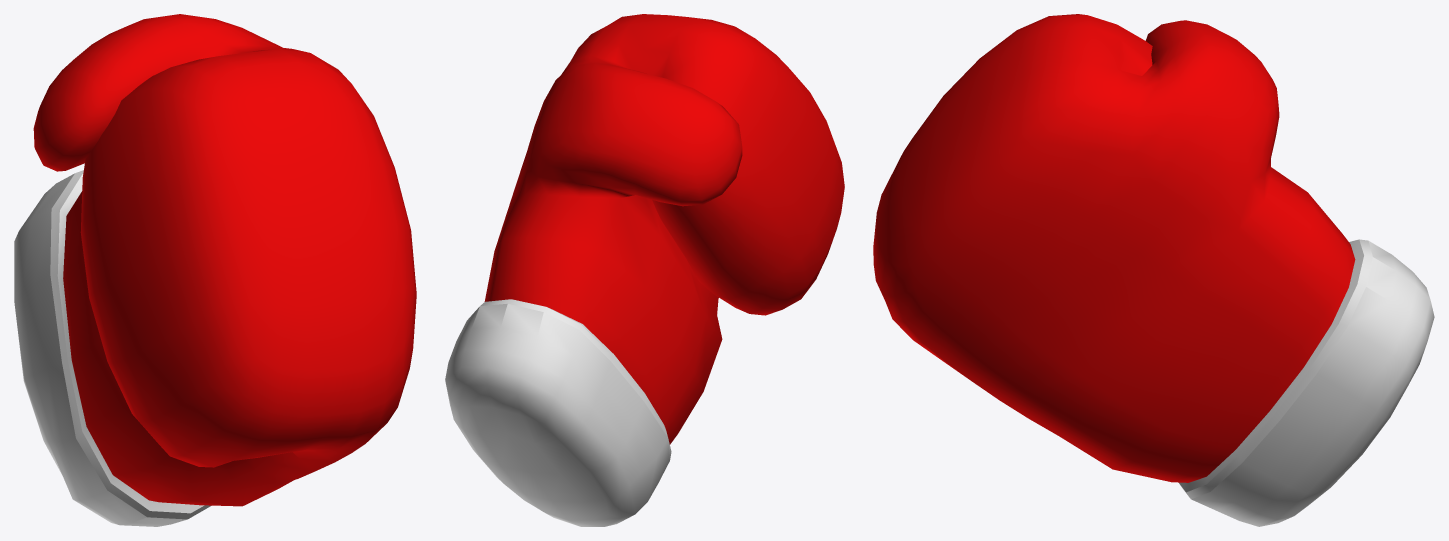
File: left.fbx
3 renders of one model, left to right at view 1: azimuth 30°, elevation 25°; view 2: azimuth 150°, elevation 25°; view 3: azimuth 270°, elevation 25°, orthographic. The views are drawn at different scales.
Visible parts, largest first — view 1: polySurface2; view 2: polySurface2; view 3: polySurface2.
Boxes of the visible parts, bbox=[...] form: polySurface2: bbox=[14, 14, 416, 526]; polySurface2: bbox=[445, 14, 844, 526]; polySurface2: bbox=[873, 14, 1434, 526].
Bounding box in the file's own units: 0.7188 × 1.4 × 1.47.
